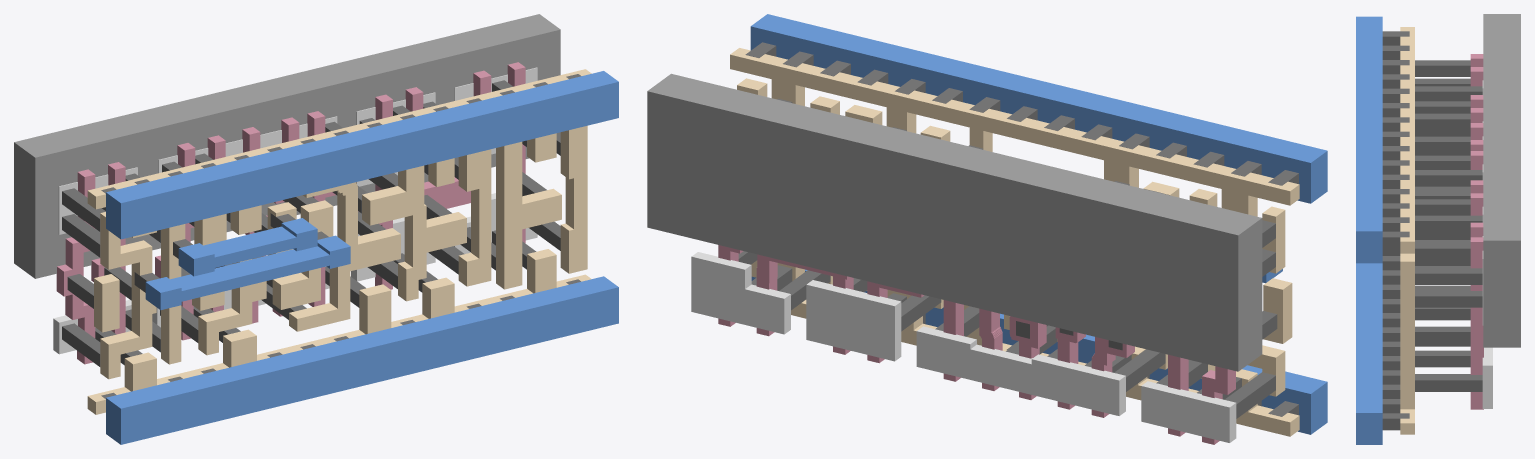
Rendered from sky130_fd_sc_hd__dlxbn_1.gds.gltf.
The picture shows the model from 3 angles, left to right: view 1: azimuth 30°, elevation 25°; view 2: azimuth 150°, elevation 25°; view 3: azimuth 270°, elevation 25°; orthographic projection. The views are drawn at different scales.
Parts seen in each view (by area): view 1: sky130_fd_sc_hd__dlxbn_1_met1, sky130_fd_sc_hd__dlxbn_1_li1, sky130_fd_sc_hd__dlxbn_1_nwell, sky130_fd_sc_hd__dlxbn_1_licon, sky130_fd_sc_hd__dlxbn_1_poly, sky130_fd_sc_hd__dlxbn_1_diff, sky130_fd_sc_hd__dlxbn_1_mcon; view 2: sky130_fd_sc_hd__dlxbn_1_nwell, sky130_fd_sc_hd__dlxbn_1_met1, sky130_fd_sc_hd__dlxbn_1_li1, sky130_fd_sc_hd__dlxbn_1_diff, sky130_fd_sc_hd__dlxbn_1_poly, sky130_fd_sc_hd__dlxbn_1_licon, sky130_fd_sc_hd__dlxbn_1_mcon; view 3: sky130_fd_sc_hd__dlxbn_1_licon, sky130_fd_sc_hd__dlxbn_1_nwell, sky130_fd_sc_hd__dlxbn_1_met1, sky130_fd_sc_hd__dlxbn_1_mcon, sky130_fd_sc_hd__dlxbn_1_li1, sky130_fd_sc_hd__dlxbn_1_poly, sky130_fd_sc_hd__dlxbn_1_diff.
Boxes of the visible parts, x1,y1,x2,y2 form: sky130_fd_sc_hd__dlxbn_1_met1: (106, 71, 618, 444); sky130_fd_sc_hd__dlxbn_1_li1: (87, 69, 591, 414); sky130_fd_sc_hd__dlxbn_1_nwell: (14, 14, 560, 278); sky130_fd_sc_hd__dlxbn_1_licon: (62, 80, 560, 366); sky130_fd_sc_hd__dlxbn_1_poly: (56, 62, 525, 364); sky130_fd_sc_hd__dlxbn_1_diff: (53, 67, 537, 354); sky130_fd_sc_hd__dlxbn_1_mcon: (101, 74, 581, 398); sky130_fd_sc_hd__dlxbn_1_nwell: (647, 73, 1262, 371); sky130_fd_sc_hd__dlxbn_1_met1: (750, 14, 1327, 434); sky130_fd_sc_hd__dlxbn_1_li1: (730, 48, 1299, 436); sky130_fd_sc_hd__dlxbn_1_diff: (691, 252, 1236, 442); sky130_fd_sc_hd__dlxbn_1_poly: (718, 245, 1235, 444); sky130_fd_sc_hd__dlxbn_1_licon: (738, 98, 1277, 418); sky130_fd_sc_hd__dlxbn_1_mcon: (745, 42, 1298, 416); sky130_fd_sc_hd__dlxbn_1_licon: (1415, 60, 1482, 391); sky130_fd_sc_hd__dlxbn_1_nwell: (1483, 14, 1520, 347); sky130_fd_sc_hd__dlxbn_1_met1: (1356, 16, 1382, 444); sky130_fd_sc_hd__dlxbn_1_mcon: (1382, 31, 1409, 430); sky130_fd_sc_hd__dlxbn_1_li1: (1400, 27, 1414, 434); sky130_fd_sc_hd__dlxbn_1_poly: (1470, 54, 1483, 409); sky130_fd_sc_hd__dlxbn_1_diff: (1482, 80, 1492, 408).
Size of the model in its own units: 7.28 by 3.2 by 2.24.
